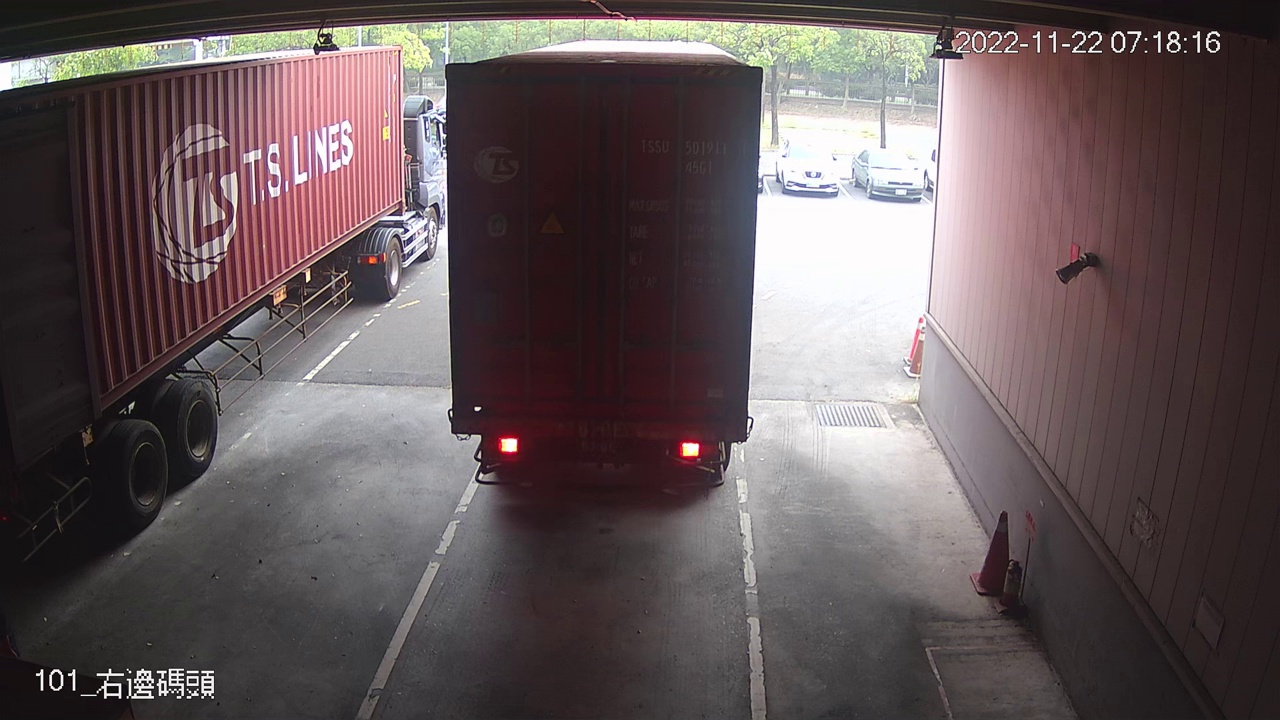container: (634, 133, 752, 179)
